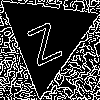Z: (21, 12, 64, 67)
